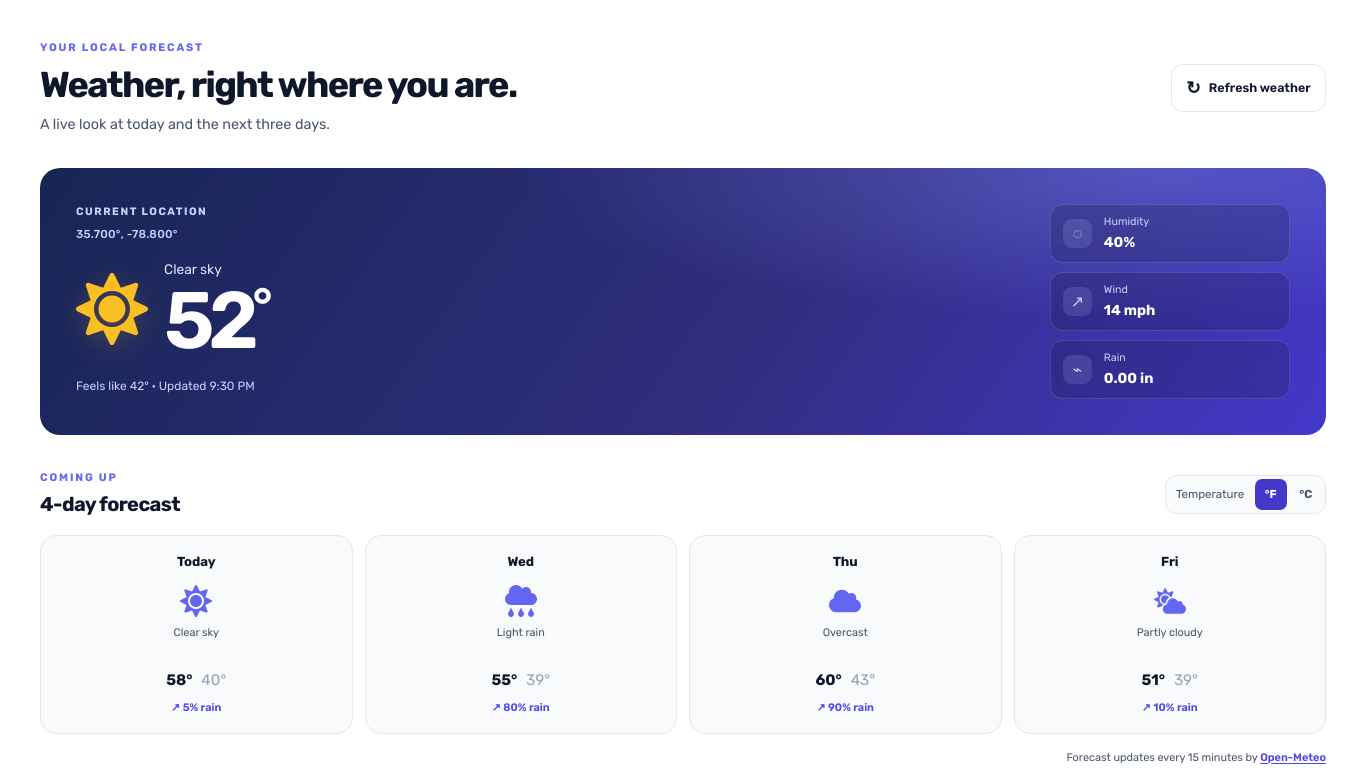
Scenario: Weather › uses browser coordinates to show real-time conditions and a four-day forecast
Expected: the text "Clear sky" is shown 2 times, [164,261,222,277]; [173,626,219,639]
Expected: the text "35.700°, -78.800°" is shown, [76,227,178,241]
Click the button named "Celsius". click: (1306, 494)
box: [1290,479,1322,510]
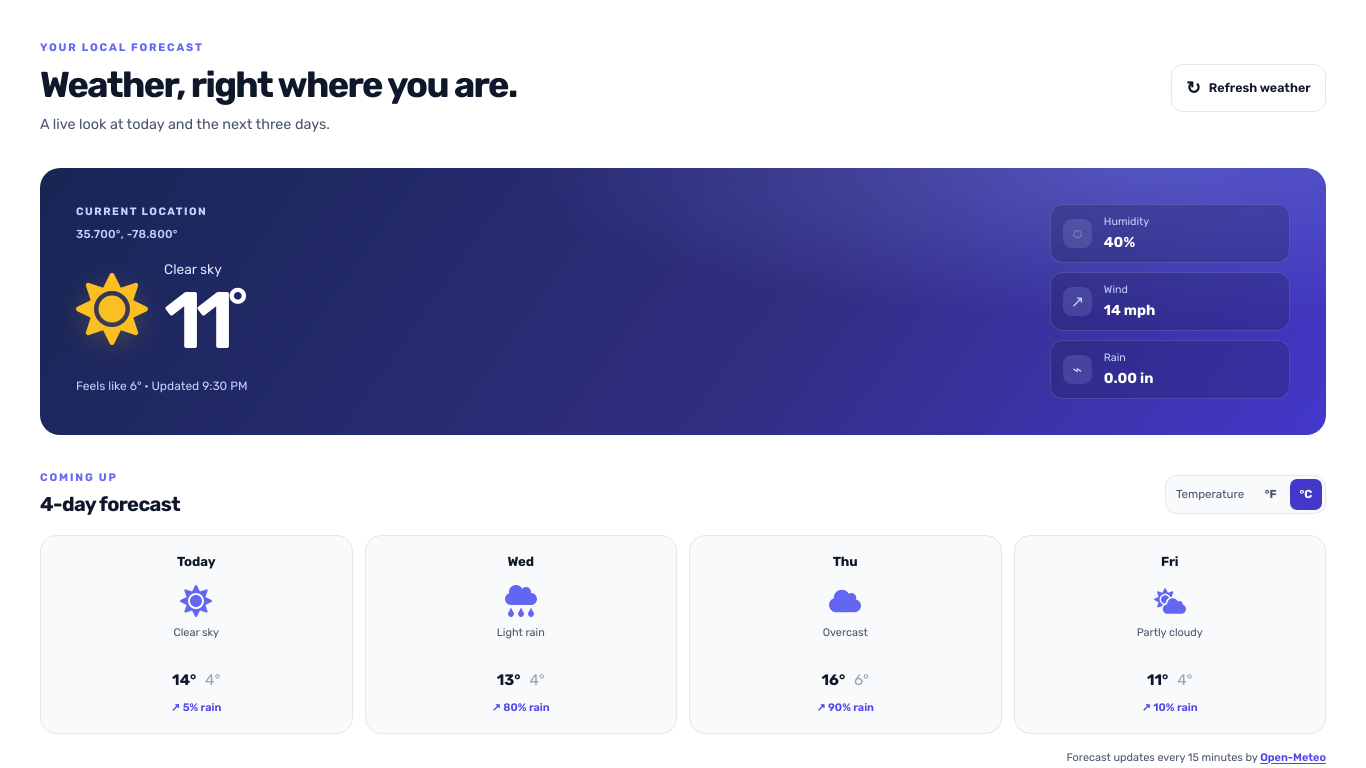
Now the element with class "weather-temperature" reads "11°", box [164,283,242,359]
Now the element with class "weather-day-temperatures" reads "14° 4°", box [172,671,220,689]
Click the button named "Fahrenheit". click: (1271, 494)
box: [1255,479,1287,510]
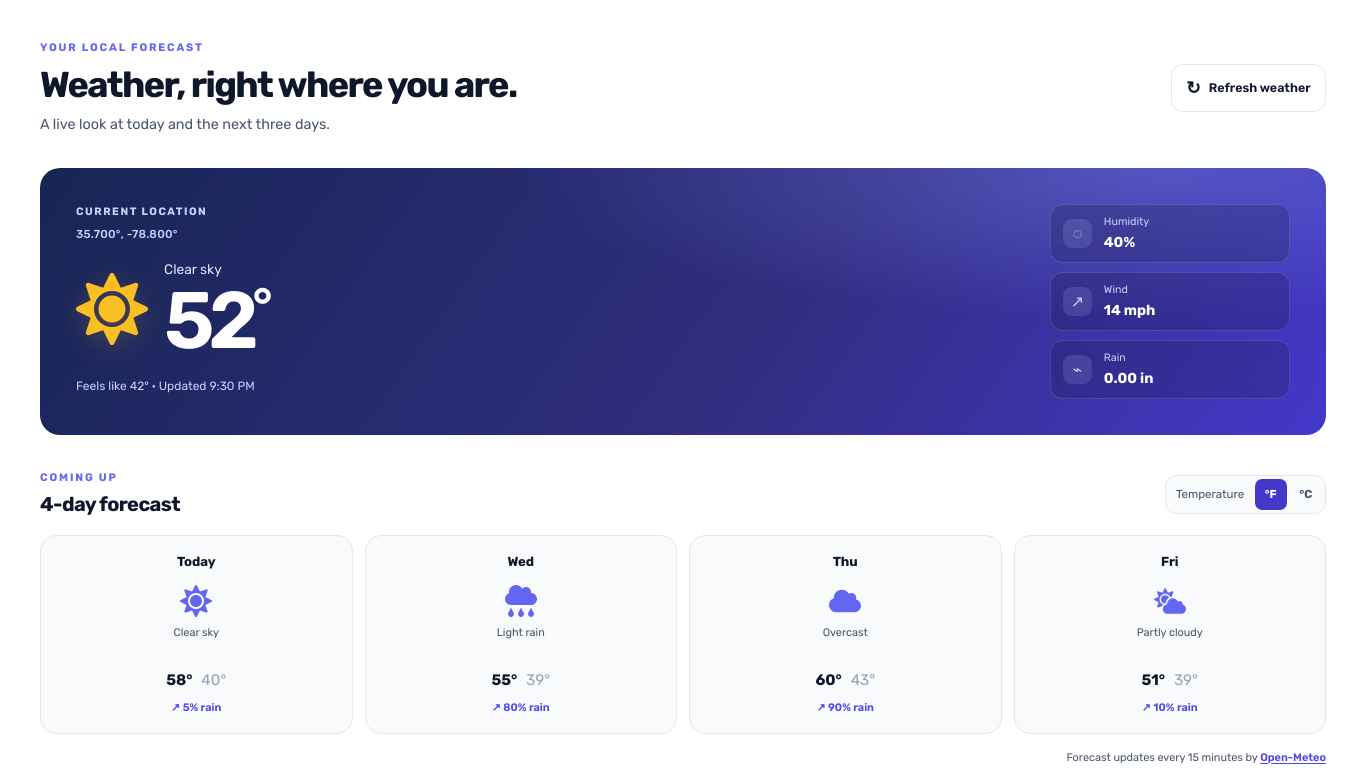
Now the element with class "weather-temperature" reads "52°", box [164,283,266,359]
